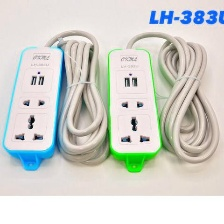three_eye_plug: (0, 40, 68, 168), (101, 42, 166, 173)
